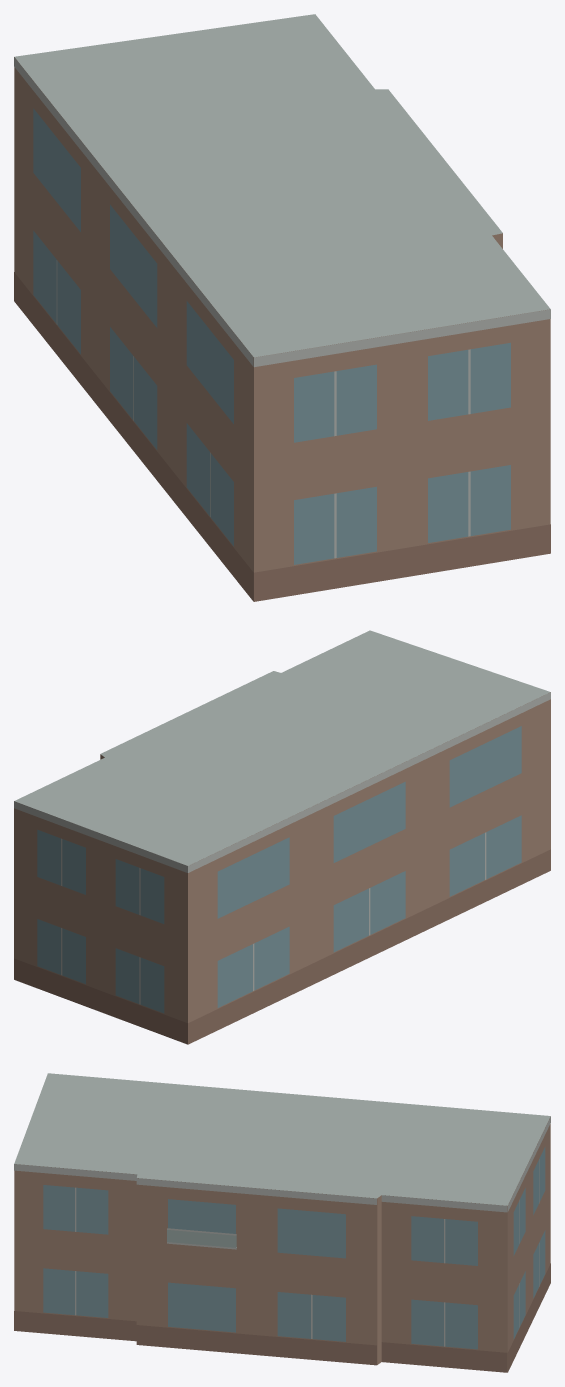
File: survey-upis-33008168.glb
3 views of the same model, one above another, from view 1: azimuth 30°, elevation 25°; view 2: azimuth 150°, elevation 25°; view 3: azimuth 270°, elevation 25° (orthographic). The views are drawn at different scales.
Visible parts, largest first — view 1: survey-upis-33008168.tmp; view 2: survey-upis-33008168.tmp; view 3: survey-upis-33008168.tmp.
Boxes of the visible parts, x1,y1,x2,y2 form: survey-upis-33008168.tmp: (14, 14, 550, 601); survey-upis-33008168.tmp: (14, 630, 550, 1044); survey-upis-33008168.tmp: (14, 1073, 550, 1372).
Size of the model in its own units: 10.41 by 6.1 by 17.79.
